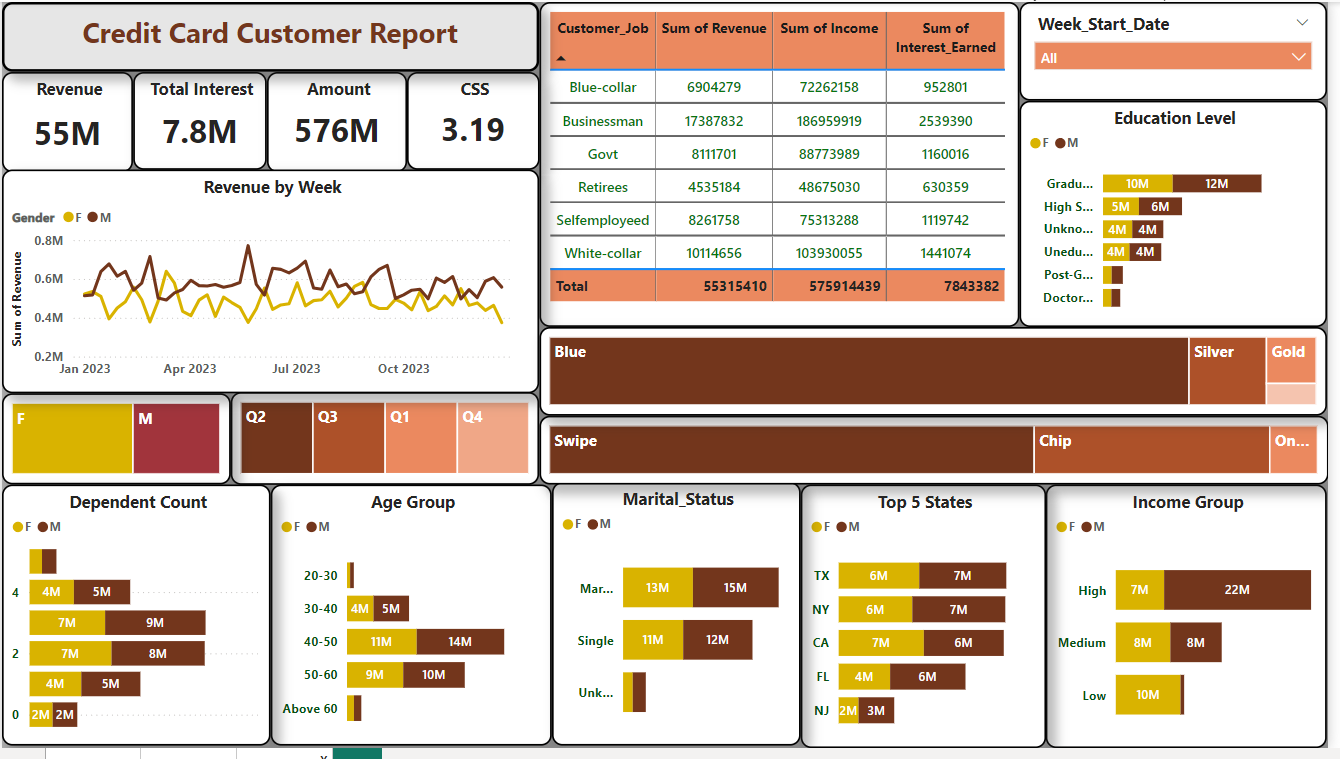

The page's visual inventory and layout, read from the dashboard file:
{"tool":"powerbi","page":{"name":"Page 3","canvas":[1280,720],"ordinal":2},"visuals":[{"type":"tableEx","fields":{"Values":["customer.Customer_Job","Sum(credit_card.Revenue)","Sum(customer.Income)","Sum(credit_card.Interest_Earned)"]},"box":[518.8,0,463.3,313.7],"z":0},{"type":"card","title":"Revenue","fields":{"Values":["Sum(credit_card.Revenue)"]},"box":[0,67.6,126.7,96.5],"z":1000},{"type":"card","title":"Total Interest","fields":{"Values":["Sum(credit_card.Interest_Earned)"]},"box":[126.7,67.6,129.1,94.1],"z":2000},{"type":"card","title":"Amount","fields":{"Values":["Sum(customer.Income)"]},"box":[255.8,67.6,135.1,96.5],"z":3000},{"type":"card","title":"CSS","fields":{"Values":["Avg(customer.Cust_Satisfaction_Score)"]},"box":[390.9,67.6,127.9,94.1],"z":4000},{"type":"textbox","box":[0,0,518.8,67.6],"z":5000},{"type":"barChart","title":"Income Group","fields":{"Category":["customer.Income_group"],"Y":["Sum(credit_card.Revenue)"],"Series":["customer.Gender"]},"box":[1007.4,465.7,271.4,254.6],"z":6000},{"type":"slicer","fields":{"Values":["credit_card.Week_Start_Date"]},"box":[982,0,296.8,95.3],"z":7000},{"type":"treemap","fields":{"Group":["credit_card.Qtr"],"Values":["CountNonNull(credit_card.Client_Num)"]},"box":[220.8,376.4,298,89.3],"z":8000},{"type":"treemap","fields":{"Values":["CountNonNull(credit_card.Client_Num)"],"Group":["customer.Gender"]},"box":[0,377.6,220.8,88.1],"z":9000},{"type":"lineChart","title":"Revenue by Week","fields":{"Y":["Sum(credit_card.Revenue)"],"Series":["customer.Gender"],"Category":["credit_card.Week_Start_Date.Variation.Date Hierarchy.Year","credit_card.Week_Start_Date.Variation.Date Hierarchy.Month","credit_card.Week_Start_Date.Variation.Date Hierarchy.Day"]},"box":[0,161.7,518.8,216],"z":10000},{"type":"barChart","title":"Age Group","fields":{"Y":["Sum(credit_card.Revenue)"],"Category":["customer.Age_group"],"Series":["customer.Gender"]},"box":[259.4,465.7,271.4,252.1],"z":11000},{"type":"barChart","title":"Dependent Count","fields":{"Y":["Sum(credit_card.Revenue)"],"Category":["customer.Dependent_Count"],"Series":["customer.Gender"]},"box":[0,465.7,259.4,252.1],"z":12000},{"type":"barChart","title":"Education Level","fields":{"Y":["Sum(credit_card.Revenue)"],"Category":["customer.Education_Level"],"Series":["customer.Gender"]},"box":[982,95.3,296.8,218.4],"z":13000},{"type":"barChart","title":"Top 5 States","fields":{"Category":["customer.state_cd"],"Y":["Sum(credit_card.Revenue)"],"Series":["customer.Gender"]},"box":[770.9,465.7,236.5,254.6],"z":14000},{"type":"barChart","title":" Marital_Status","fields":{"Category":["customer.Marital_Status"],"Y":["Sum(credit_card.Revenue)"],"Series":["customer.Gender"]},"box":[530.8,463.3,240.1,254.6],"z":15000},{"type":"treemap","fields":{"Group":["credit_card.Use Chip"],"Values":["Sum(credit_card.Revenue)"]},"box":[518.8,399.3,761.3,66.4],"z":16000},{"type":"treemap","fields":{"Values":["Sum(credit_card.Revenue)"],"Group":["credit_card.Card_Category"]},"box":[518.8,313.7,760.1,85.7],"z":17000}]}

Visuals, with their boxes in screenshot pixels (x1, y1, x2, y2), scaled from the page's 1280x720 canvas onto the 1340x759 screenshot:
tableEx - customer.Customer_Job x Sum(credit_card.Revenue): {"left": 543, "top": 0, "right": 1028, "bottom": 331}
"Revenue" card: {"left": 0, "top": 71, "right": 133, "bottom": 173}
"Total Interest" card: {"left": 133, "top": 71, "right": 268, "bottom": 170}
"Amount" card: {"left": 268, "top": 71, "right": 409, "bottom": 173}
"CSS" card: {"left": 409, "top": 71, "right": 543, "bottom": 170}
textbox: {"left": 0, "top": 0, "right": 543, "bottom": 71}
"Income Group" barChart: {"left": 1055, "top": 491, "right": 1339, "bottom": 758}
slicer - credit_card.Week_Start_Date: {"left": 1028, "top": 0, "right": 1339, "bottom": 100}
treemap - credit_card.Qtr x CountNonNull(credit_card.Client_Num): {"left": 231, "top": 397, "right": 543, "bottom": 491}
treemap - CountNonNull(credit_card.Client_Num) x customer.Gender: {"left": 0, "top": 398, "right": 231, "bottom": 491}
"Revenue by Week" lineChart: {"left": 0, "top": 170, "right": 543, "bottom": 398}
"Age Group" barChart: {"left": 272, "top": 491, "right": 556, "bottom": 757}
"Dependent Count" barChart: {"left": 0, "top": 491, "right": 272, "bottom": 757}
"Education Level" barChart: {"left": 1028, "top": 100, "right": 1339, "bottom": 331}
"Top 5 States" barChart: {"left": 807, "top": 491, "right": 1055, "bottom": 758}
" Marital_Status" barChart: {"left": 556, "top": 488, "right": 807, "bottom": 757}
treemap - credit_card.Use Chip x Sum(credit_card.Revenue): {"left": 543, "top": 421, "right": 1339, "bottom": 491}
treemap - Sum(credit_card.Revenue) x credit_card.Card_Category: {"left": 543, "top": 331, "right": 1339, "bottom": 421}
